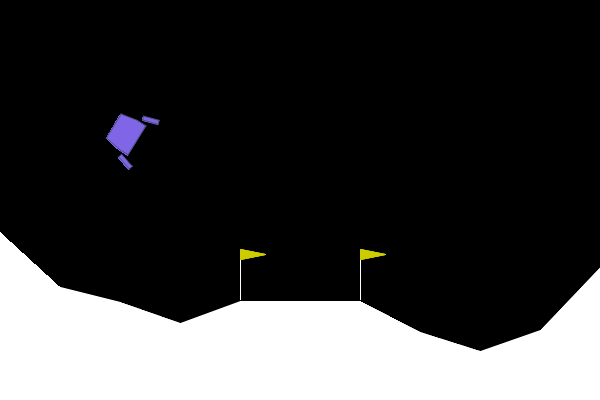lander: (96, 100, 161, 172)
